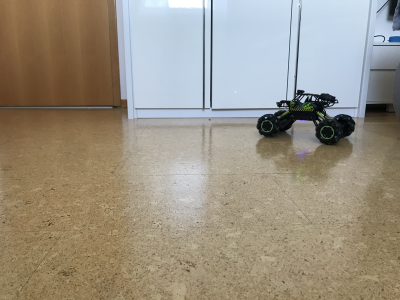remote control car: (255, 88, 358, 147)
